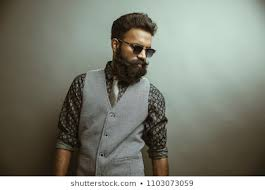Indian_Male: (115, 18, 156, 79)
